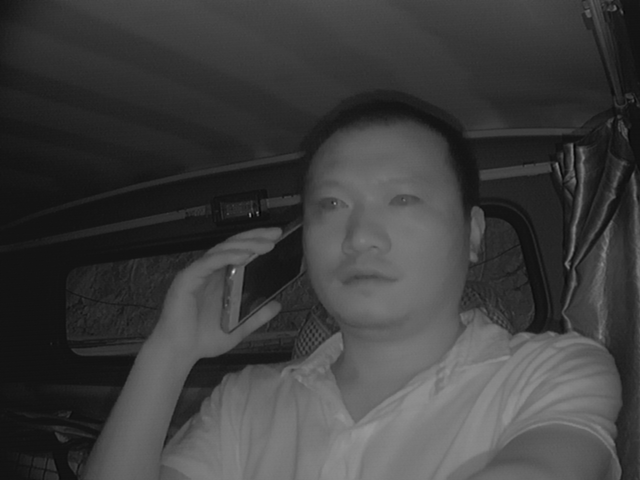hand: (168, 225, 277, 366)
